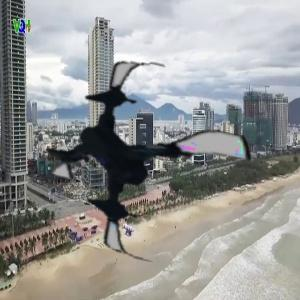drone: (42, 55, 253, 266)
